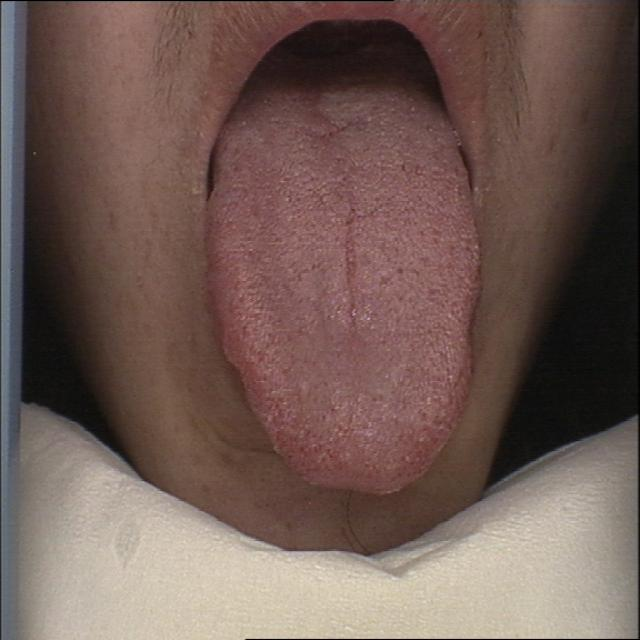tongue: (203, 64, 487, 498)
